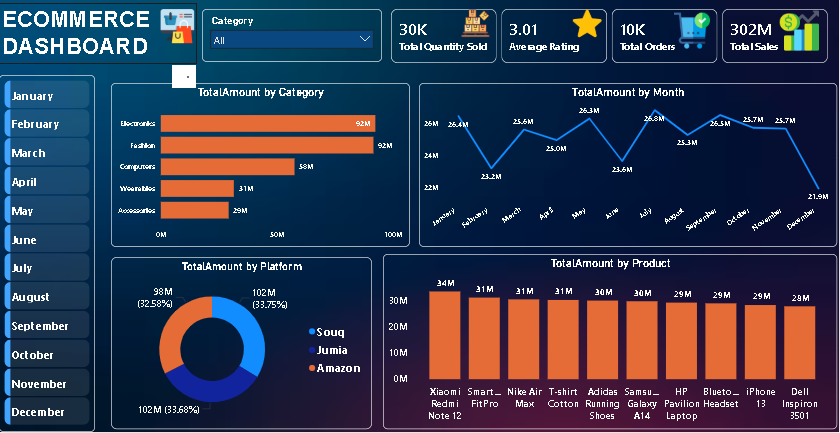

This screenshot's page, from the dashboard's own definition file:
{"tool":"powerbi","page":{"name":"Dashboard","canvas":[1400,720],"ordinal":0},"visuals":[{"type":"advancedSlicerVisual","fields":{"Values":["Custom_Calendar.Date.Variation.Date Hierarchy.Month"]},"box":[0,125,160,595],"z":0},{"type":"cardVisual","fields":{"Data":["Sum(ecommerce_data.Quantity)","Avg(ecommerce_data.Rating)","CountNonNull(ecommerce_data.OrderID)","Sum(ecommerce_data.TotalAmount)"]},"box":[638.3,0,761.7,120],"z":1000},{"type":"image","box":[760,15,68.3,48.3],"z":2000},{"type":"image","box":[943.3,15,73.3,48.3],"z":3000},{"type":"image","box":[1125,15,60,71.7],"z":4000},{"type":"image","box":[1295,5,78.3,91.7],"z":5000},{"type":"clusteredBarChart","fields":{"Category":["ecommerce_data.Category"],"Y":["Sum(ecommerce_data.TotalAmount)"]},"box":[186.7,138.3,498.3,273.3],"z":6000},{"type":"donutChart","fields":{"Category":["ecommerce_data.Platform"],"Y":["Sum(ecommerce_data.TotalAmount)"]},"box":[186.7,428.3,435,286.7],"z":7000},{"type":"lineChart","fields":{"Y":["Sum(ecommerce_data.TotalAmount)"],"Category":["Custom_Calendar.Date.Variation.Date Hierarchy.Month"]},"box":[700,138.3,696.7,273.3],"z":8000},{"type":"clusteredColumnChart","fields":{"Category":["ecommerce_data.Product"],"Y":["Sum(ecommerce_data.TotalAmount)"]},"box":[640,423.3,756.7,291.7],"z":9000},{"type":"textbox","box":[0,5,330,101.7],"z":10000},{"type":"slicer","fields":{"Values":["ecommerce_data.Category"]},"box":[338.3,15,300,88.3],"z":11000},{"type":"image","box":[243.3,15,108.3,56.7],"z":12000}]}

Visuals, with their boxes in screenshot pixels (x1, y1, x2, y2), scaled from the page's 1400x720 canvas onto the 840x433 screenshot:
advancedSlicerVisual - Custom_Calendar.Date.Variation.Date Hierarchy.Month: locate(0, 75, 96, 432)
cardVisual - Sum(ecommerce_data.Quantity) x Avg(ecommerce_data.Rating): locate(383, 0, 839, 72)
image: locate(456, 9, 497, 38)
image: locate(566, 9, 610, 38)
image: locate(675, 9, 711, 52)
image: locate(777, 3, 824, 58)
clusteredBarChart - ecommerce_data.Category x Sum(ecommerce_data.TotalAmount): locate(112, 83, 411, 248)
donutChart - ecommerce_data.Platform x Sum(ecommerce_data.TotalAmount): locate(112, 258, 373, 430)
lineChart - Sum(ecommerce_data.TotalAmount) x Custom_Calendar.Date.Variation.Date Hierarchy.Month: locate(420, 83, 838, 248)
clusteredColumnChart - ecommerce_data.Product x Sum(ecommerce_data.TotalAmount): locate(384, 255, 838, 430)
textbox: locate(0, 3, 198, 64)
slicer - ecommerce_data.Category: locate(203, 9, 383, 62)
image: locate(146, 9, 211, 43)
